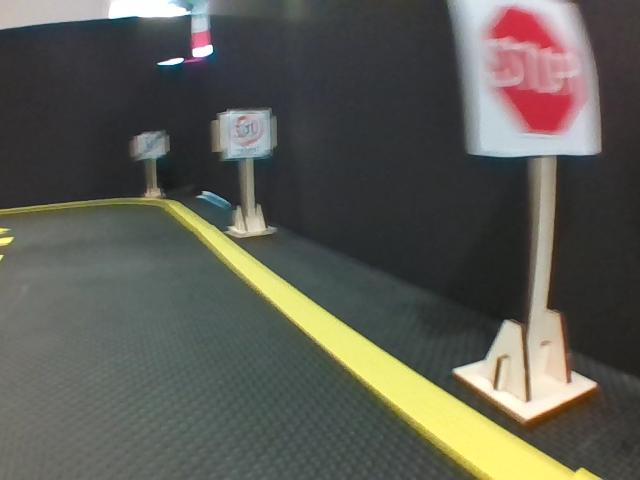30: (222, 110, 271, 158)
no30: (138, 134, 163, 160)
stop: (457, 1, 603, 154)
